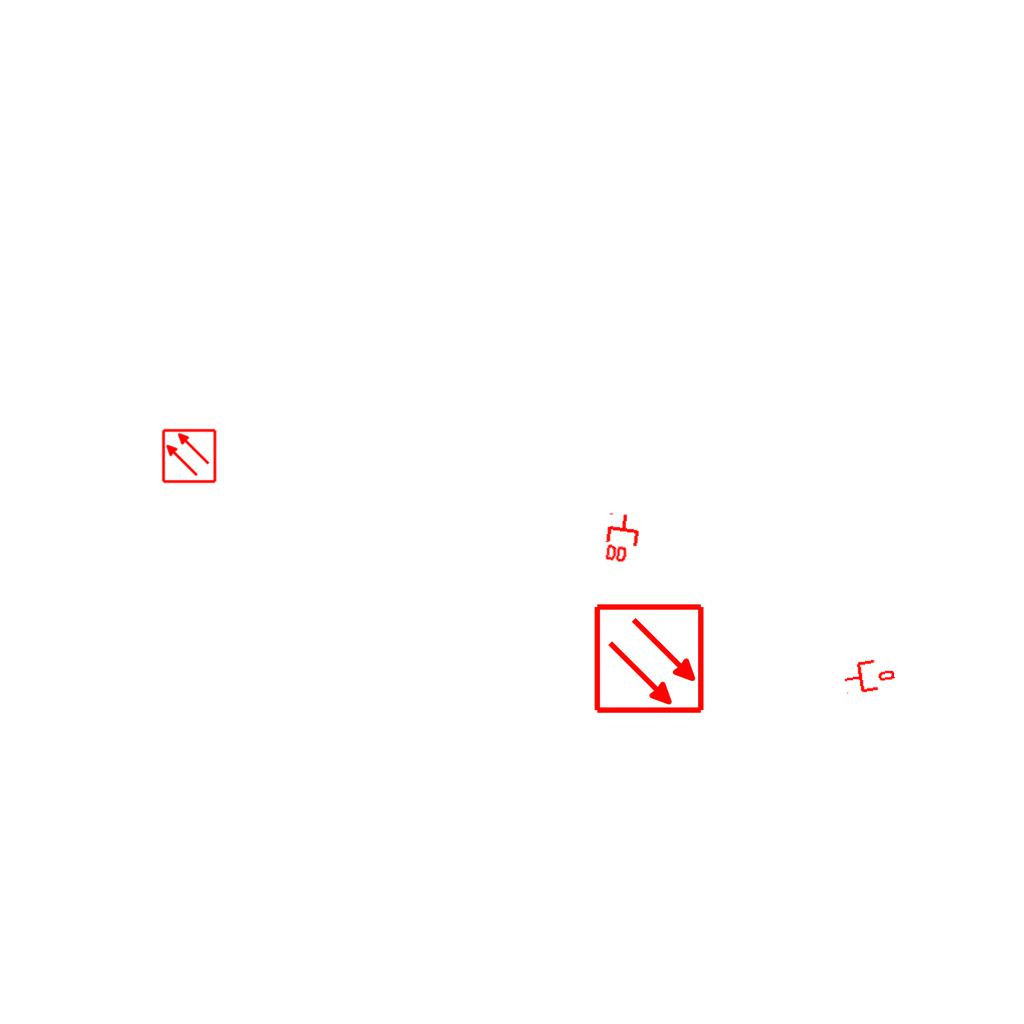Datenanschluss_einfach: (841, 655, 897, 697)
Datenanschluss_zweifach: (602, 510, 644, 567)
RMO_Rauchmelder_optischer: (593, 602, 706, 715), (161, 428, 217, 484)
